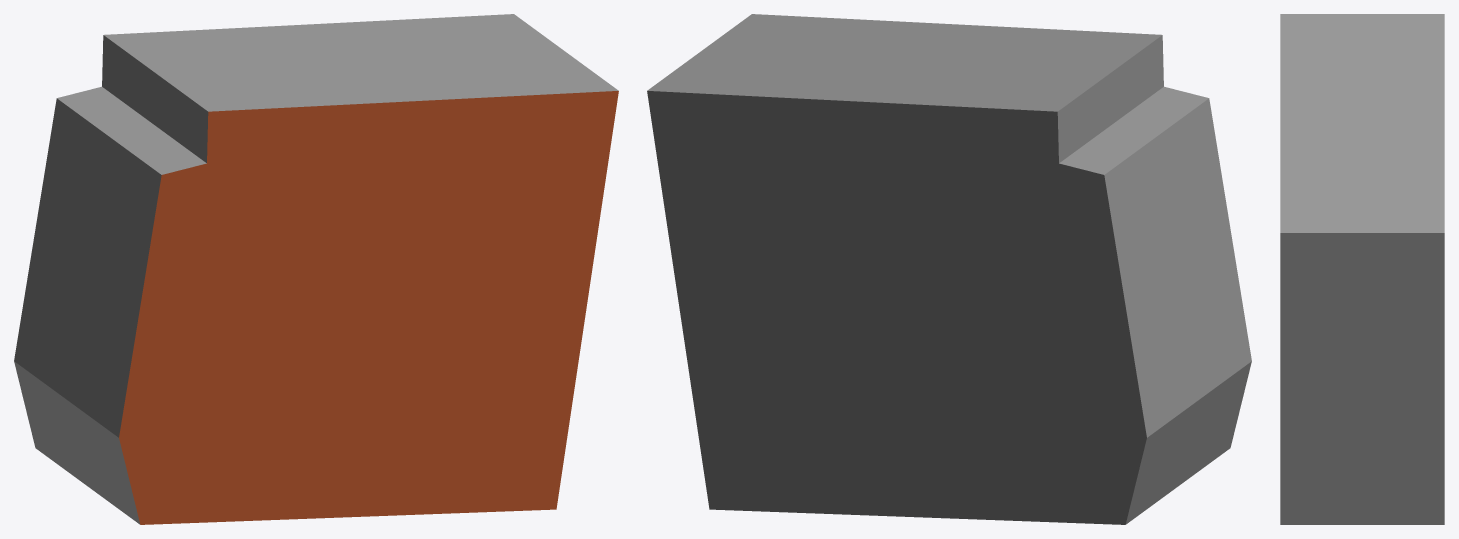
Rendered from construction_2362_assumed_A_Casa_h6m.obj.
3 views of the same model, side by side, from view 1: azimuth 30°, elevation 25°; view 2: azimuth 150°, elevation 25°; view 3: azimuth 270°, elevation 25° (orthographic). The views are drawn at different scales.
Parts seen in each view (by area): view 1: construction_2362_assumed_A_Casa; view 2: construction_2362_assumed_A_Casa; view 3: construction_2362_assumed_A_Casa.
Part boxes in pixels (x1,y1,x2,y2): construction_2362_assumed_A_Casa: [14, 14, 618, 524]; construction_2362_assumed_A_Casa: [647, 14, 1251, 524]; construction_2362_assumed_A_Casa: [1280, 14, 1444, 524].
Size of the model in its own units: 16.5 by 15.23 by 6.
